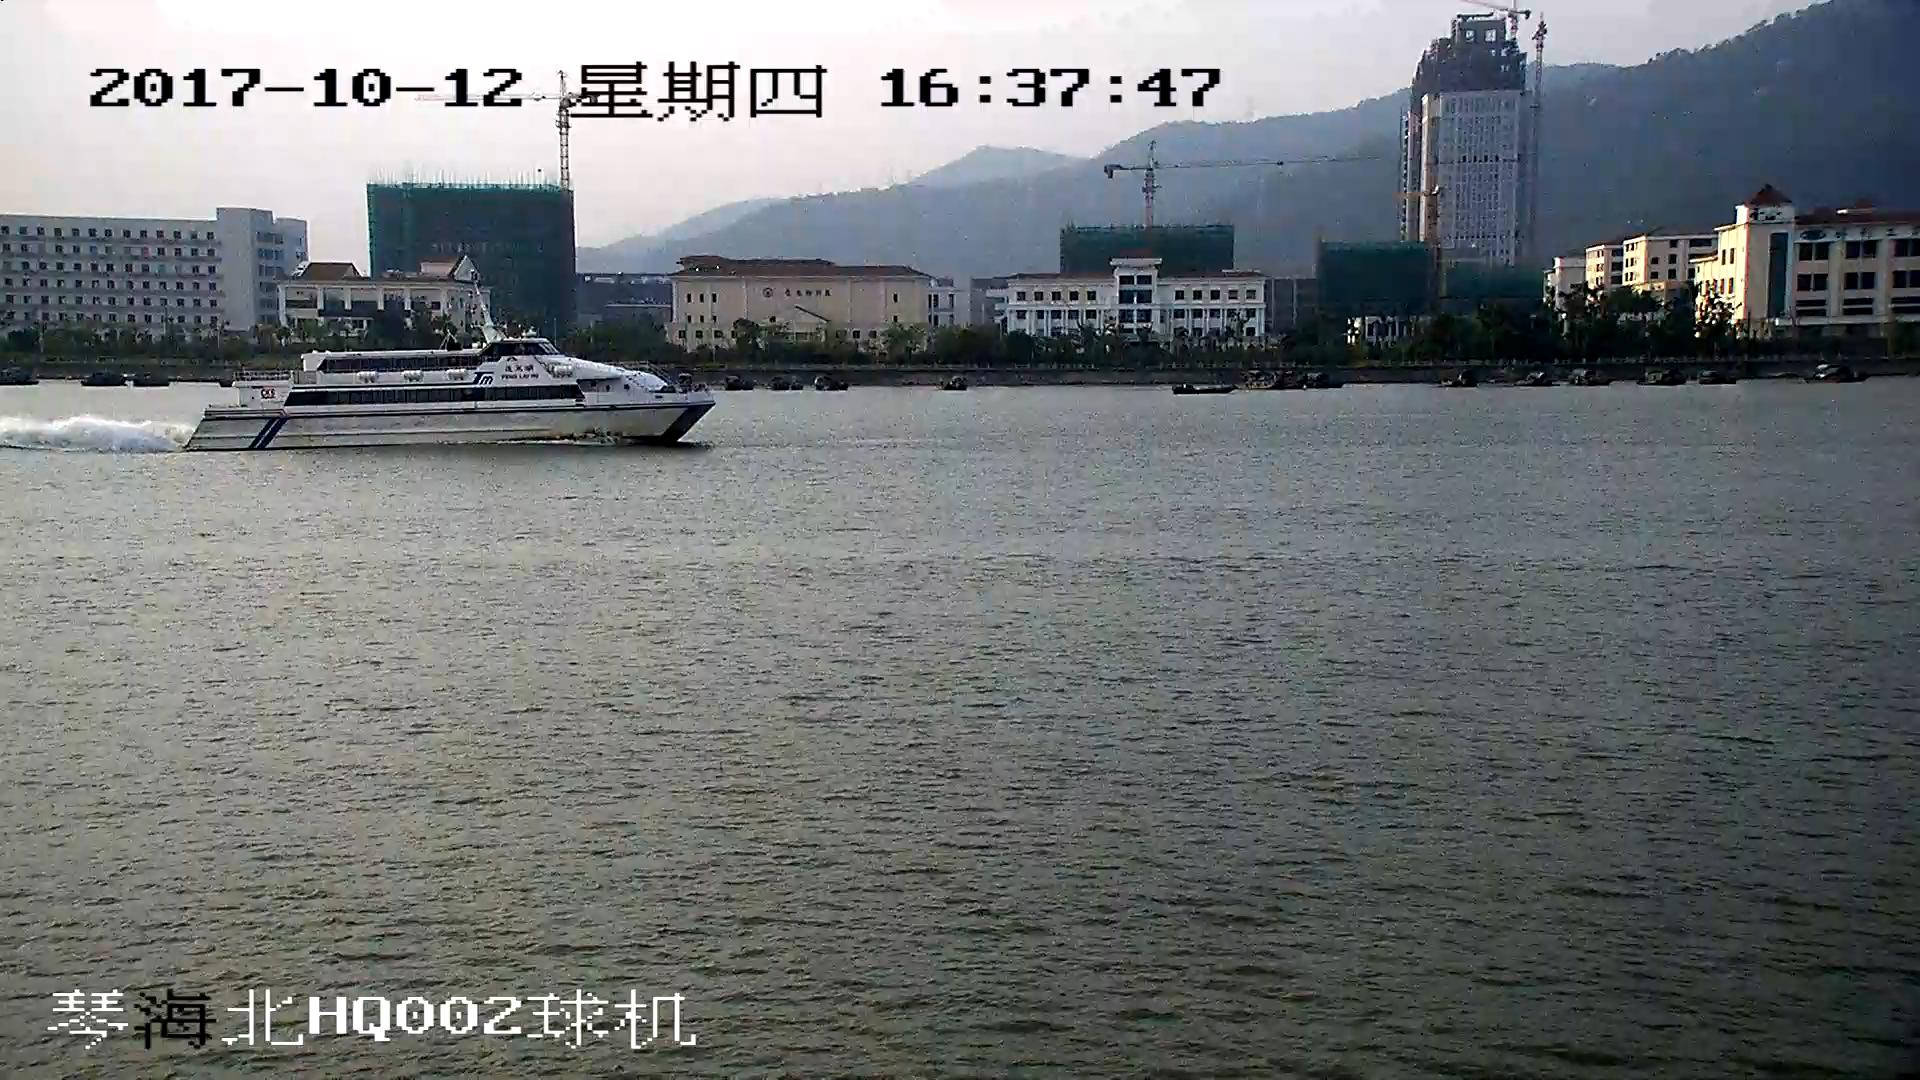passenger ship: (179, 289, 724, 456)
